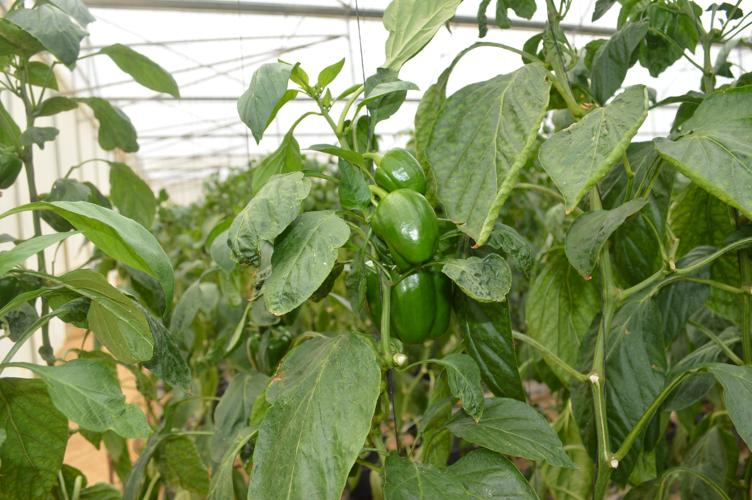BellPepper: (366, 266, 454, 341), (374, 191, 438, 263), (373, 149, 426, 193)
